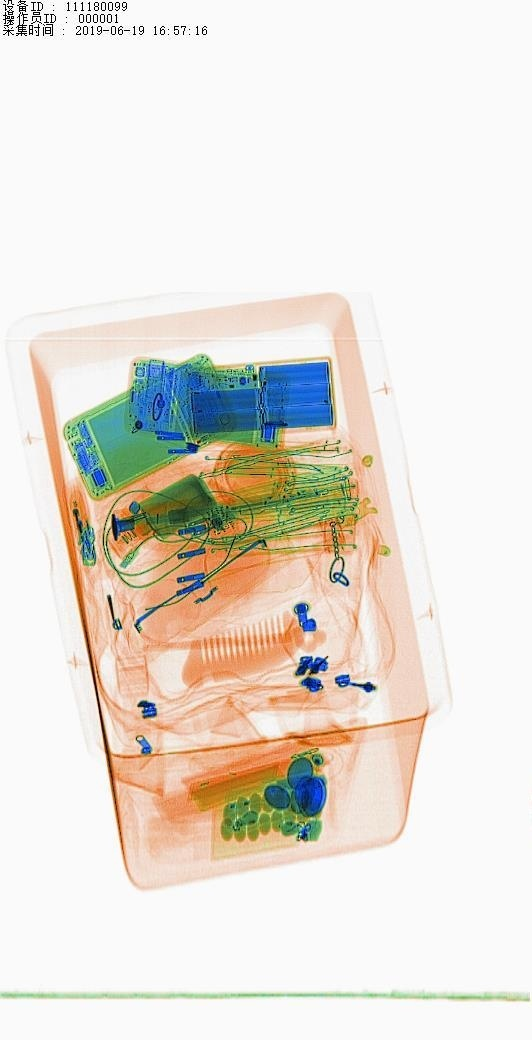NonmetallicFire: (56, 476, 110, 582)
